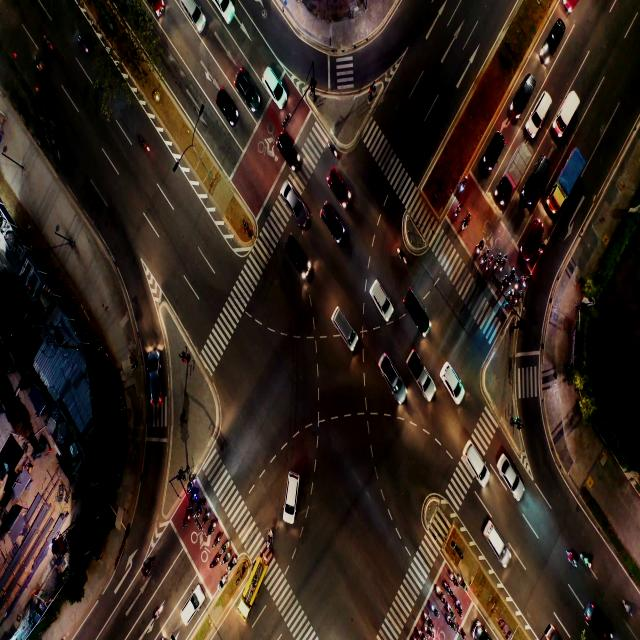bus: (251, 570, 258, 594)
car: (148, 352, 163, 402), (503, 460, 520, 493), (222, 97, 238, 131), (326, 209, 341, 240), (370, 286, 385, 312), (286, 474, 294, 522), (328, 172, 344, 196), (382, 367, 398, 391), (488, 528, 502, 554), (334, 310, 348, 334), (443, 372, 462, 389), (408, 300, 420, 324), (519, 79, 531, 101), (467, 444, 479, 466), (286, 189, 298, 210), (187, 4, 198, 24), (551, 23, 561, 44), (293, 237, 300, 262), (533, 167, 541, 188), (527, 224, 535, 245), (241, 80, 250, 98), (267, 71, 276, 89), (283, 140, 291, 159), (188, 598, 195, 619), (488, 142, 496, 158), (536, 104, 542, 118)
motorcycle: (138, 132, 147, 149), (396, 248, 406, 262), (568, 551, 576, 566), (430, 602, 438, 617), (155, 603, 162, 619), (329, 142, 337, 156), (218, 573, 225, 588), (145, 564, 152, 578), (266, 529, 272, 545), (584, 556, 590, 572), (477, 240, 484, 251), (222, 556, 230, 565), (458, 574, 464, 586), (195, 504, 202, 514), (540, 243, 546, 254), (448, 586, 454, 597), (210, 559, 217, 568), (228, 560, 234, 570), (454, 207, 460, 217), (448, 620, 453, 632), (424, 612, 430, 622), (465, 216, 470, 227), (191, 492, 197, 500), (426, 627, 431, 636), (186, 511, 190, 522), (462, 180, 466, 191), (494, 256, 498, 266), (502, 258, 506, 268), (502, 278, 506, 288), (450, 571, 454, 581), (457, 602, 461, 612), (448, 607, 452, 617), (189, 482, 193, 491), (517, 292, 520, 303), (461, 626, 464, 637), (222, 544, 226, 552), (418, 630, 422, 638), (215, 534, 218, 544), (517, 276, 520, 286), (509, 292, 512, 302), (526, 276, 529, 286), (210, 523, 214, 530), (483, 251, 487, 258), (511, 270, 514, 279), (205, 512, 208, 520), (488, 258, 491, 266), (437, 588, 440, 596)
truck: (560, 157, 573, 192), (562, 95, 572, 124), (514, 152, 523, 176), (412, 364, 422, 384)
